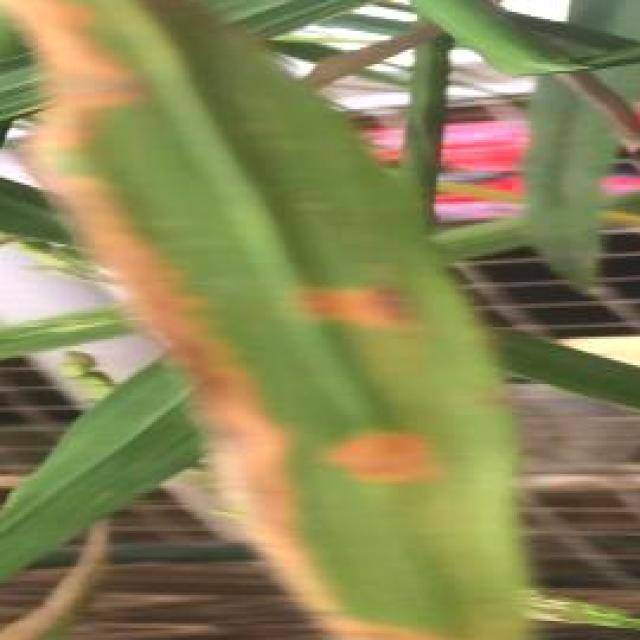Bacterial_Leaf_Blight: (104, 0, 504, 628)
